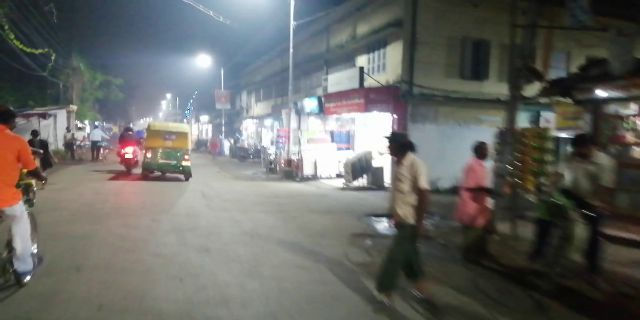Autorickshaw: (143, 120, 196, 186)
Motorbike: (119, 122, 139, 175)
